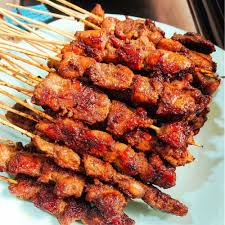Sate ayam/100g: (0, 0, 222, 225)
